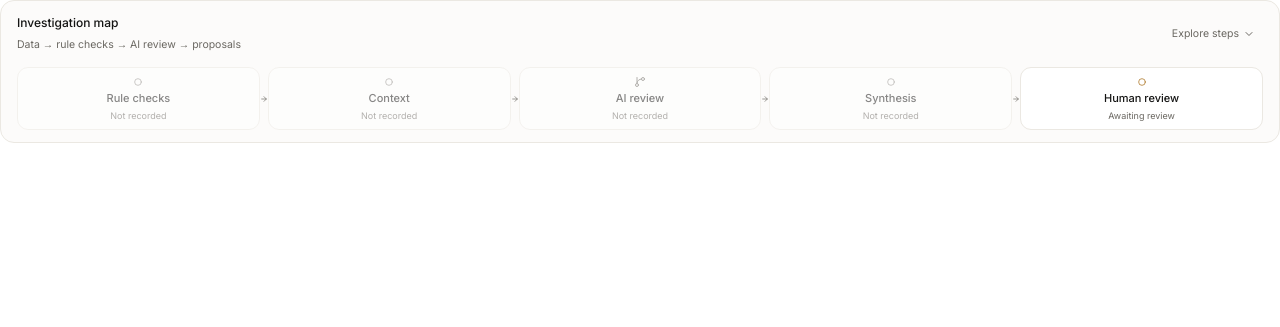
Test case: MapaLogico — fases del mismo proceso › guardar propuestas no afirma que la revisión humana está completa
Click the button with aria-label "Human review: Awaiting review" at [1142, 98], box x1=1020 y1=67 x2=1263 y2=130
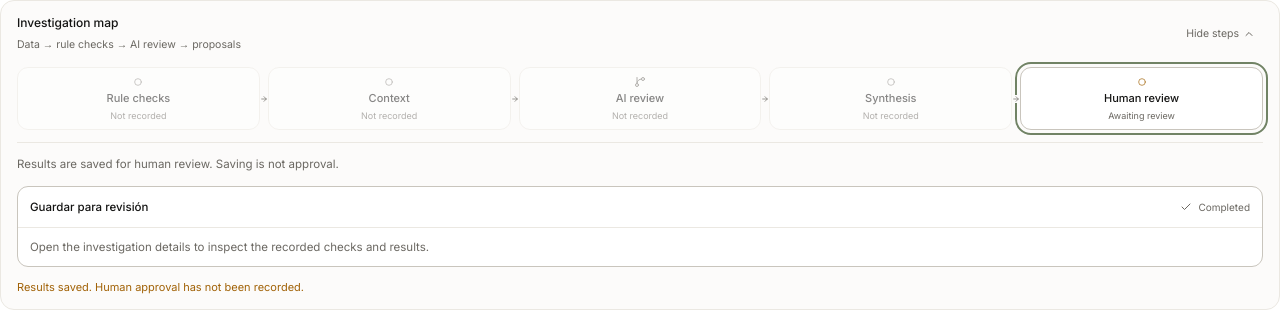
Check: the text "Results saved. Human approval has not been recorded." is shown, box x1=17 y1=280 x2=304 y2=294
